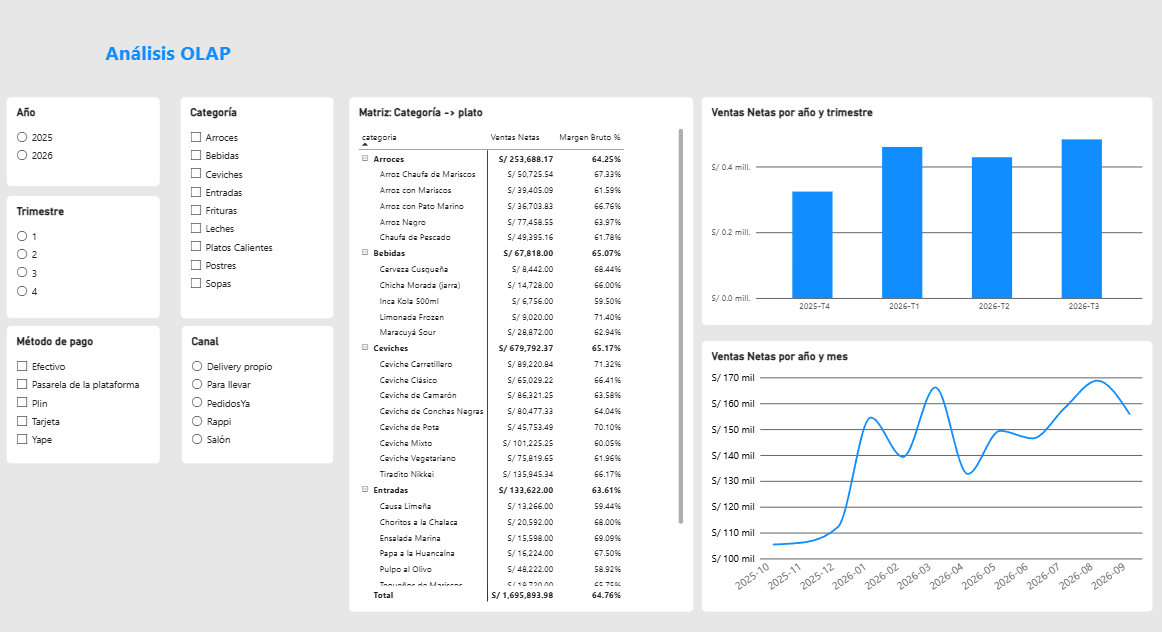

Layout of this report page (visuals, bound fields, positions):
{"tool":"powerbi","page":{"name":"OLAP","canvas":[1920,1080],"ordinal":1},"visuals":[{"type":"listSlicer","title":"Año","fields":{"Values":["Dim_Fecha.anio"]},"box":[10.9,162.9,253.4,148.4],"z":0},{"type":"listSlicer","title":"Trimestre","fields":{"Values":["Dim_Fecha.trimestre"]},"box":[10.9,325.7,253.4,202.7],"z":1000},{"type":"listSlicer","title":"Canal","fields":{"Values":["Dim_Canal.canal"]},"box":[298.6,539.3,251.5,228],"z":2000},{"type":"listSlicer","title":"Categoría","fields":{"Values":["Dim_Plato.categoria"]},"box":[296.8,162.9,253.4,365.6],"z":3000},{"type":"listSlicer","title":"Método de pago","fields":{"Values":["Dim_MetodoPago.metodo_pago"]},"box":[10.9,539.3,253.4,228],"z":4000},{"type":"pivotTable","title":"Matriz: Categoría -> plato","fields":{"Rows":["Dim_Plato.categoria","Dim_Plato.nombre_plato"],"Values":["Dim_Canal.Ventas Netas","Dim_Canal.Margen Bruto %"]},"box":[573.7,162.9,568.2,848.7],"z":5000},{"type":"textbox","box":[150.2,67,253,150],"z":6000},{"type":"columnChart","title":"Ventas Netas por año y trimestre","fields":{"Category":["Dim_Fecha.anio_trimestre"],"Y":["Dim_Canal.Ventas Netas"]},"box":[1154.6,162.9,743.8,376.4],"z":7000},{"type":"lineChart","title":"Ventas Netas por año y mes","fields":{"Category":["Dim_Fecha.anio_mes"],"Y":["Dim_Canal.Ventas Netas"]},"box":[1154.6,564.6,743.8,447],"z":8000}]}

Visuals, with their boxes on the page's 1920x1080 design canvas (x1, y1, x2, y2). These are canvas units, not pixel positions in the 1162x632 screenshot, which may show the page scaled, cropped or inside an application window:
"Año" listSlicer: Rect(11, 163, 264, 311)
"Trimestre" listSlicer: Rect(11, 326, 264, 528)
"Canal" listSlicer: Rect(299, 539, 550, 767)
"Categoría" listSlicer: Rect(297, 163, 550, 528)
"Método de pago" listSlicer: Rect(11, 539, 264, 767)
"Matriz: Categoría -> plato" pivotTable: Rect(574, 163, 1142, 1012)
textbox: Rect(150, 67, 403, 217)
"Ventas Netas por año y trimestre" columnChart: Rect(1155, 163, 1898, 539)
"Ventas Netas por año y mes" lineChart: Rect(1155, 565, 1898, 1012)
